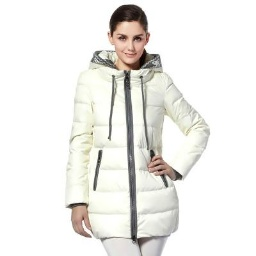face: (98, 1, 159, 67)
